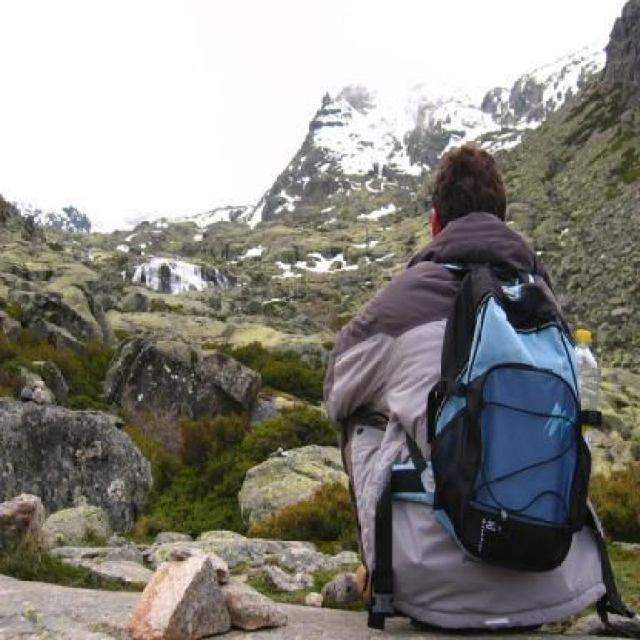backpack: (423, 254, 594, 580)
